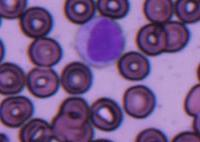L: (75, 15, 125, 67)
